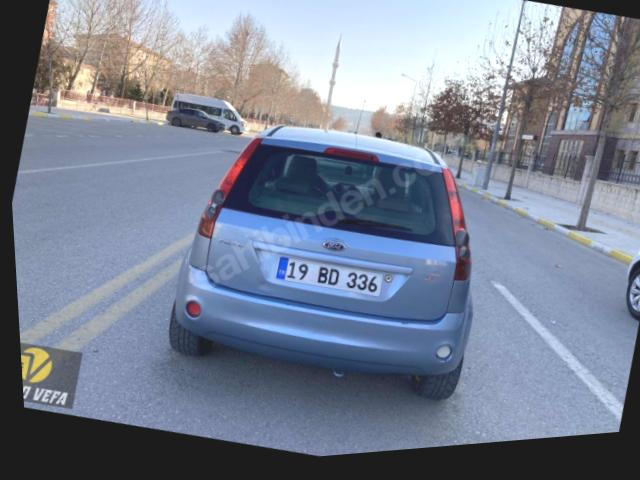plaka: (275, 257, 383, 296)
